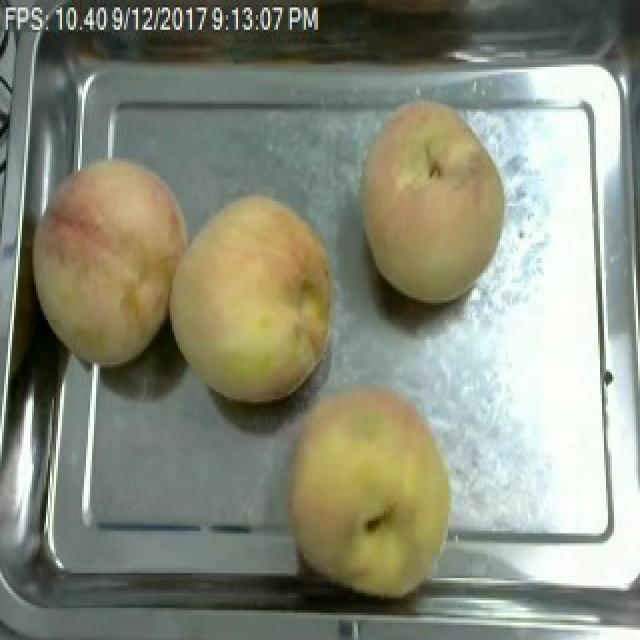Fruit: (272, 370, 464, 608), (16, 144, 200, 374), (160, 184, 346, 409), (350, 89, 514, 310)
